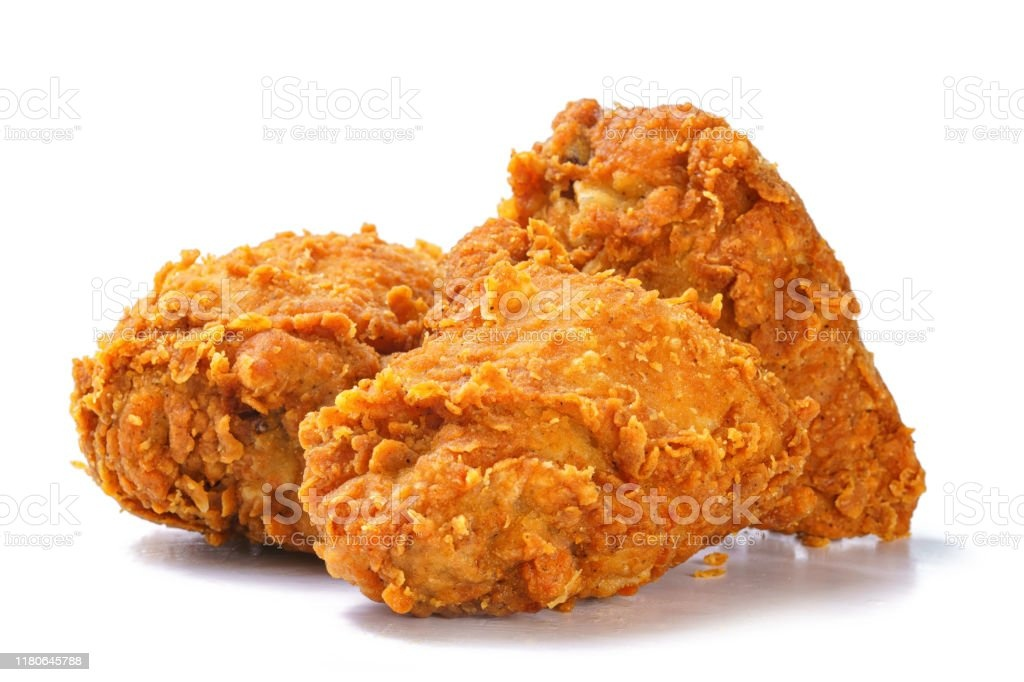ayam_goreng: (58, 80, 939, 619)
